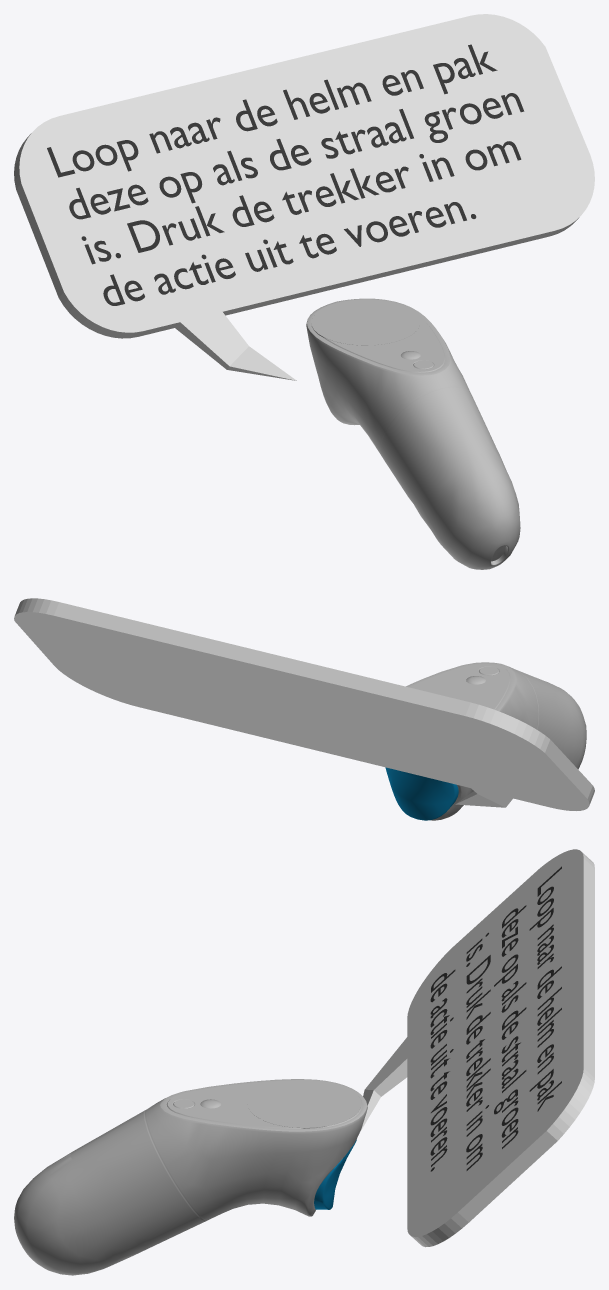
Rendered from REMOTE-tutorial-2-grab-helmet.fbx.
3 renders of one model, top to bottom at view 1: azimuth 30°, elevation 25°; view 2: azimuth 150°, elevation 25°; view 3: azimuth 270°, elevation 25°, orthographic. The views are drawn at different scales.
Visible parts, largest first — view 1: Curve, Circle, Text; view 2: Curve, Circle; view 3: Curve, Circle, Text.
Part boxes in pixels (left/top/right/bottom): Curve: left=14, top=14, right=594, bottom=380; Circle: left=306, top=298, right=520, bottom=569; Text: left=47, top=44, right=524, bottom=305; Curve: left=14, top=598, right=594, bottom=810; Circle: left=385, top=662, right=586, bottom=820; Curve: left=360, top=849, right=594, bottom=1247; Circle: left=14, top=1079, right=367, bottom=1275; Text: left=430, top=866, right=561, bottom=1171.
Bounding box in the file's own units: 426 × 241 × 388.
